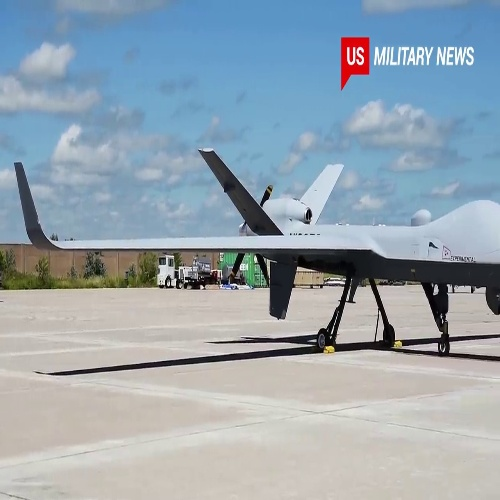uav: (13, 140, 500, 361)
